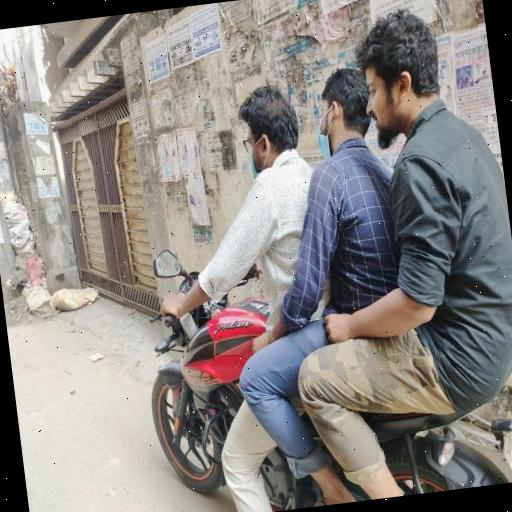no helmet: (210, 64, 333, 226)
triple riding: (109, 38, 512, 512)
